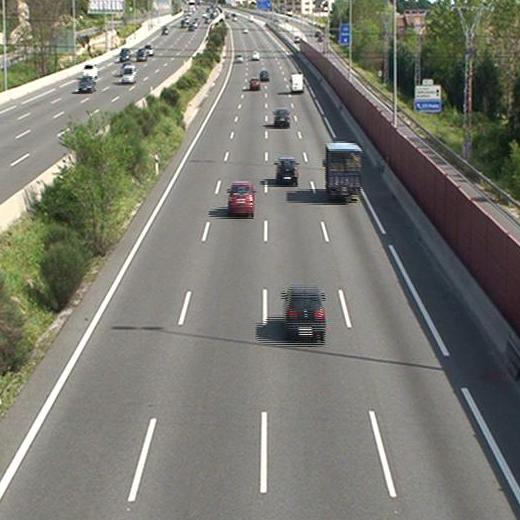car: (281, 288, 329, 341), (227, 181, 255, 217), (273, 157, 300, 186), (272, 108, 292, 128), (248, 77, 261, 90), (257, 69, 271, 81), (233, 53, 244, 63)
small-truck: (324, 142, 360, 203)
van: (289, 74, 305, 92)
